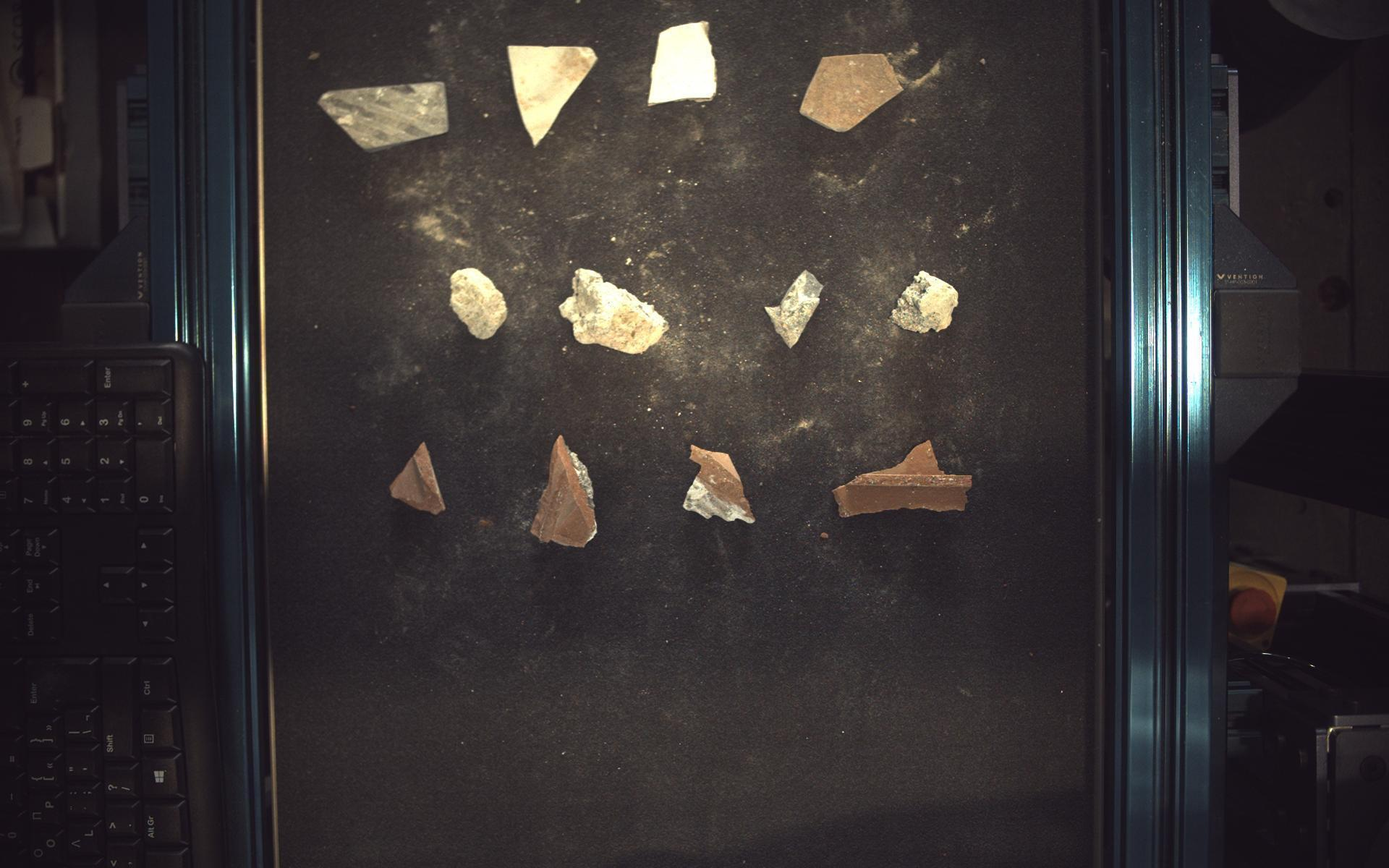brick: (834, 441, 974, 518), (530, 435, 598, 548), (684, 445, 756, 524), (390, 443, 446, 515)
concrete: (559, 268, 669, 354), (767, 270, 824, 347), (894, 271, 961, 333), (451, 268, 507, 339)
tile: (318, 82, 449, 150), (509, 46, 598, 145), (802, 52, 904, 131), (650, 21, 718, 105)
